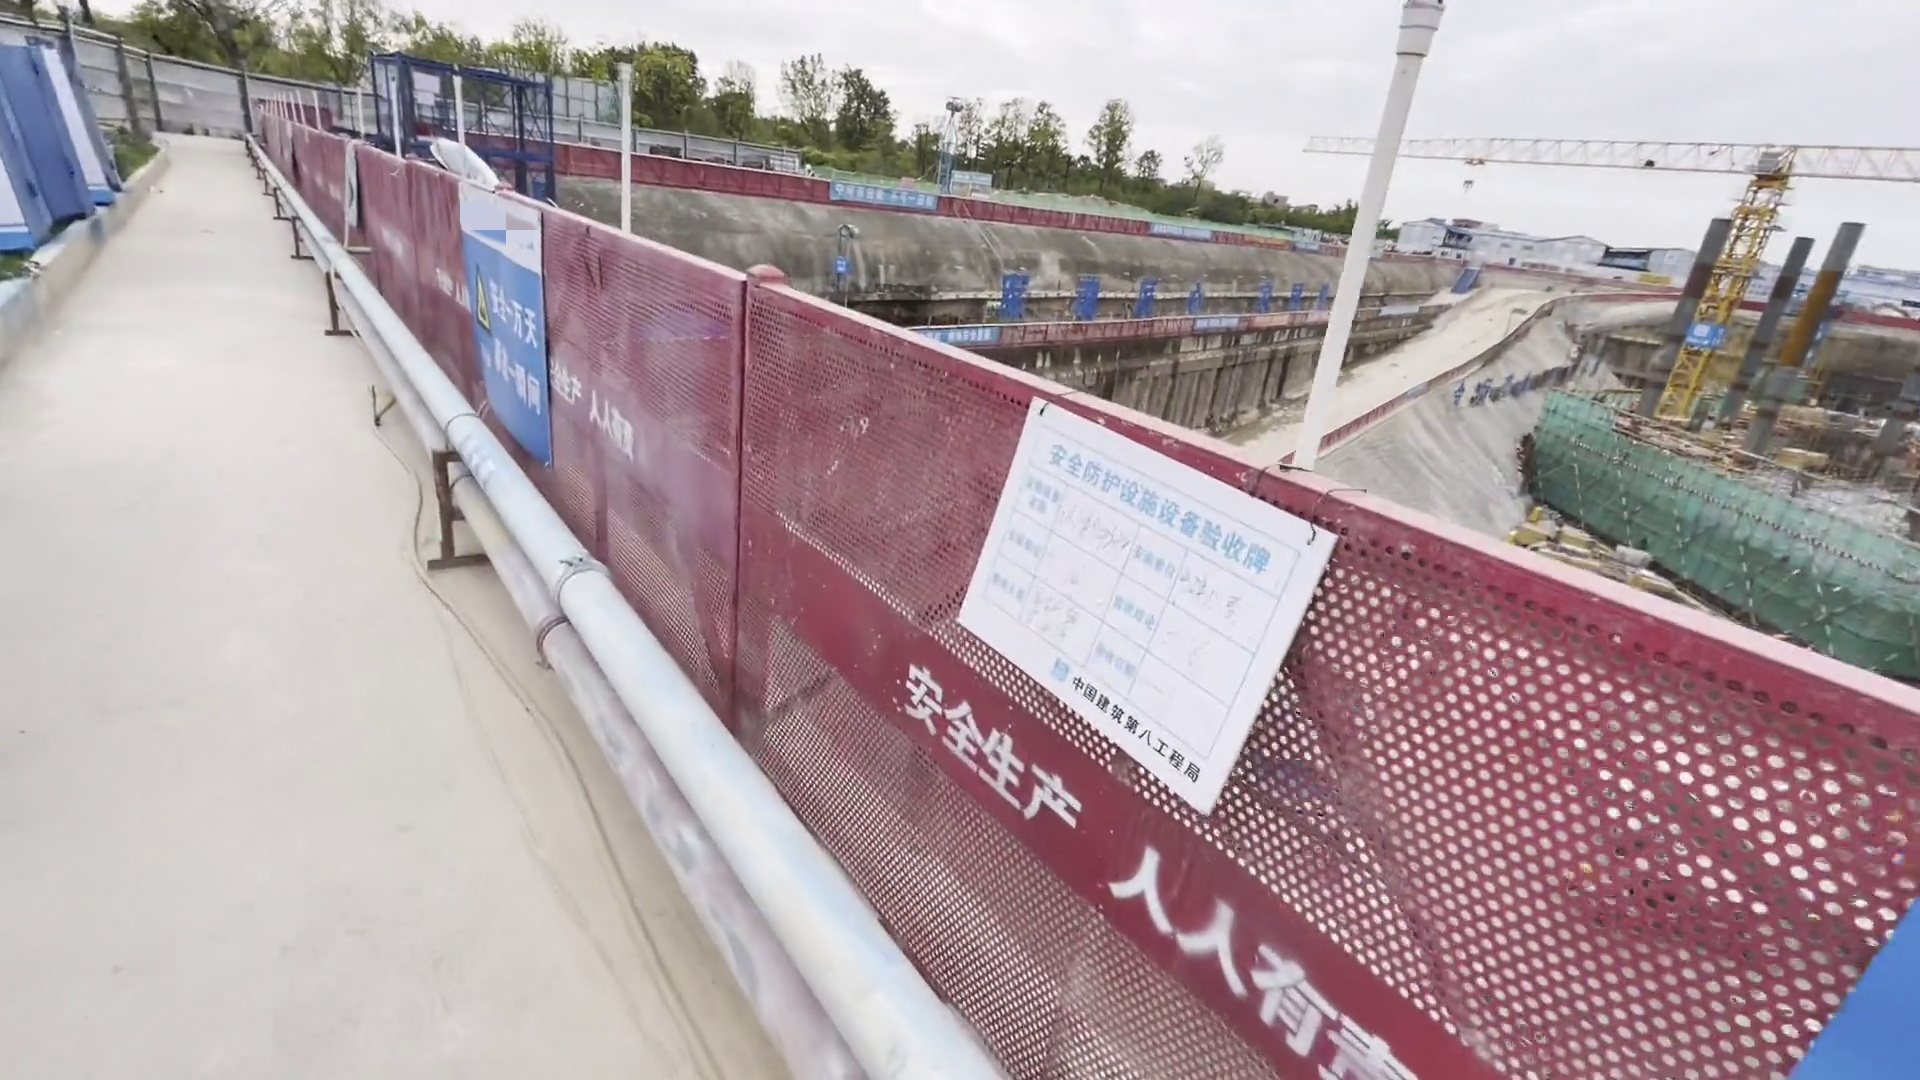fence: (277, 299, 1900, 1060)
slogan: (435, 173, 556, 460)
